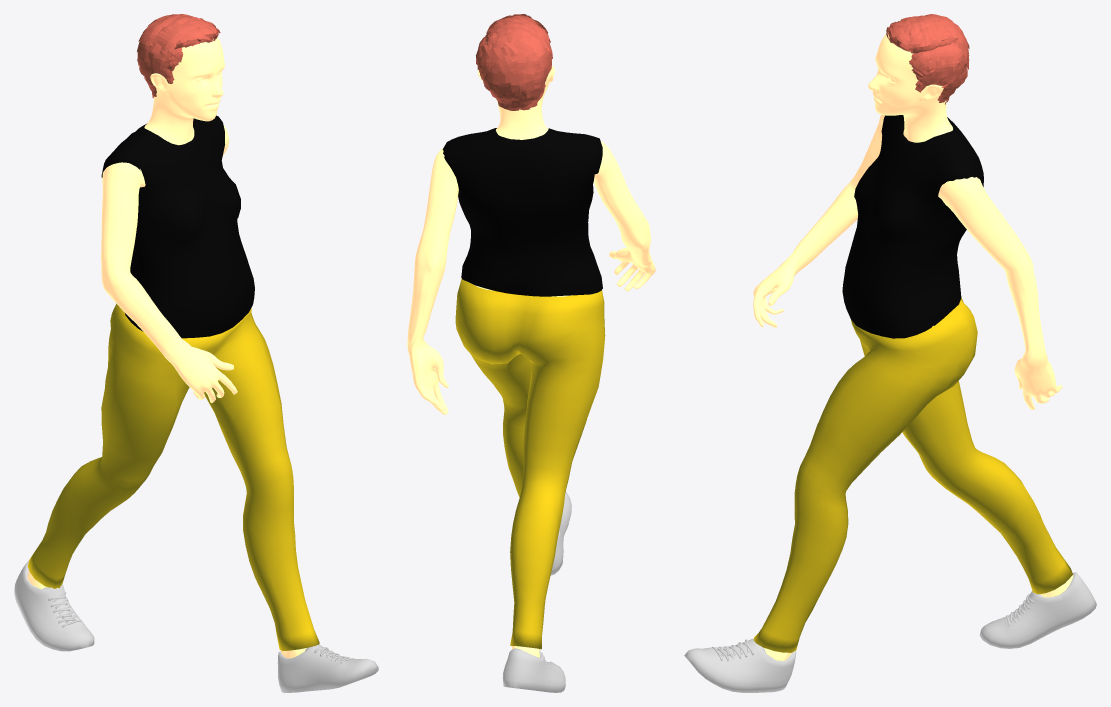
The model's file is Woman_02_Walking-transformed.glb.
The picture shows the model from 3 angles, left to right: view 1: azimuth 30°, elevation 25°; view 2: azimuth 150°, elevation 25°; view 3: azimuth 270°, elevation 25°; orthographic projection. The views are drawn at different scales.
Parts seen in each view (by area): view 1: Bottoms.002, Top.002, Body.002, Shoes.002, Hair.002; view 2: Bottoms.002, Top.002, Body.002, Hair.002, Shoes.002; view 3: Bottoms.002, Top.002, Body.002, Shoes.002, Hair.002.
Part boxes in pixels (left/top/right/bottom): Bottoms.002: left=27, top=303, right=319, bottom=650; Top.002: left=101, top=115, right=254, bottom=338; Body.002: left=27, top=37, right=306, bottom=658; Shoes.002: left=14, top=560, right=378, bottom=692; Hair.002: left=137, top=14, right=220, bottom=97; Bottoms.002: left=455, top=278, right=605, bottom=649; Top.002: left=442, top=128, right=602, bottom=296; Body.002: left=407, top=42, right=655, bottom=657; Hair.002: left=476, top=14, right=552, bottom=110; Shoes.002: left=502, top=491, right=571, bottom=692; Bottoms.002: left=753, top=297, right=1072, bottom=652; Top.002: left=842, top=115, right=983, bottom=338; Body.002: left=753, top=33, right=1073, bottom=660; Shoes.002: left=684, top=572, right=1096, bottom=692; Hair.002: left=886, top=14, right=969, bottom=104.
Size of the model in its own units: 0.5256 by 1.66 by 0.945.
